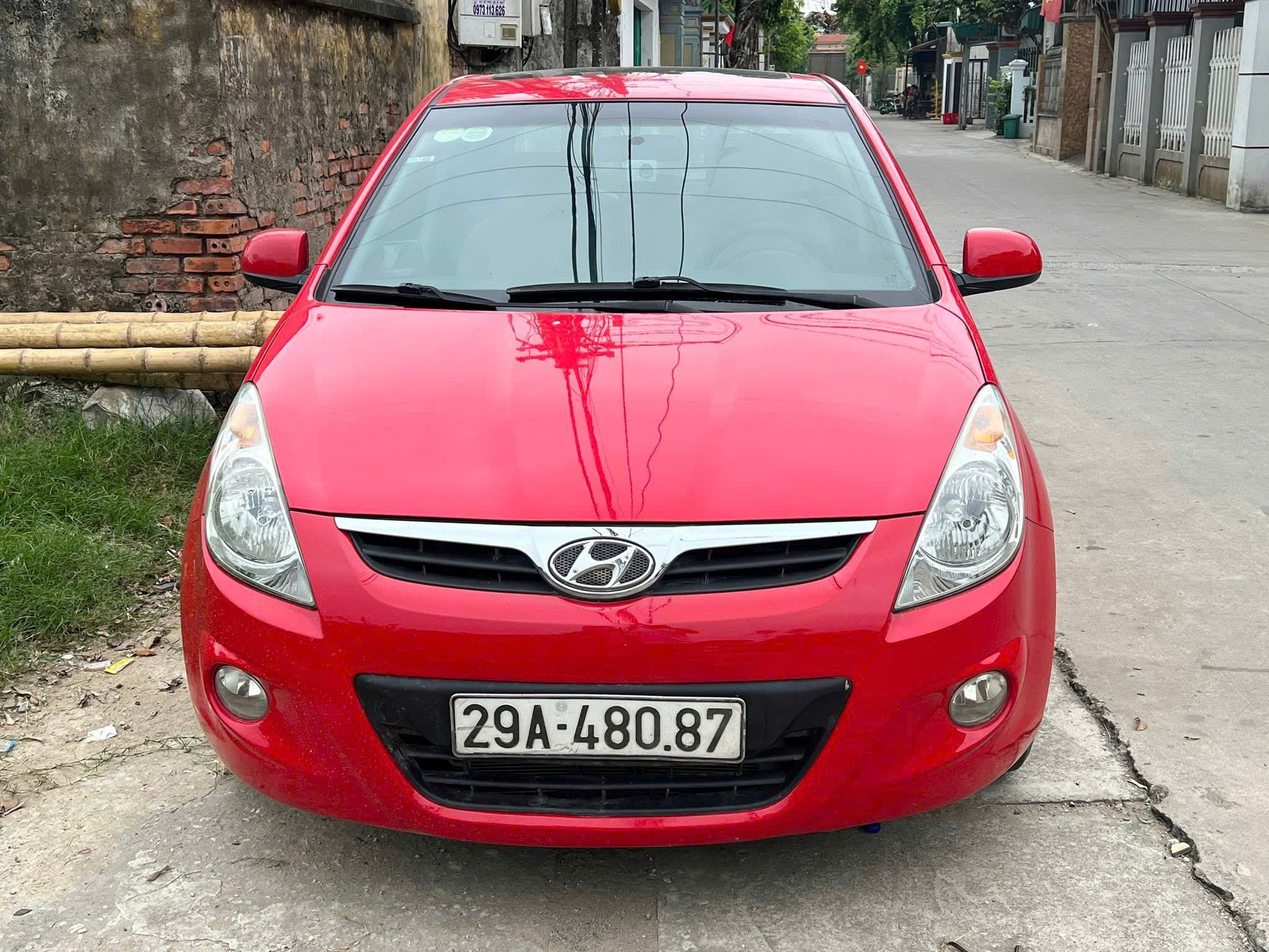Bien-so: (432, 685, 730, 757)
